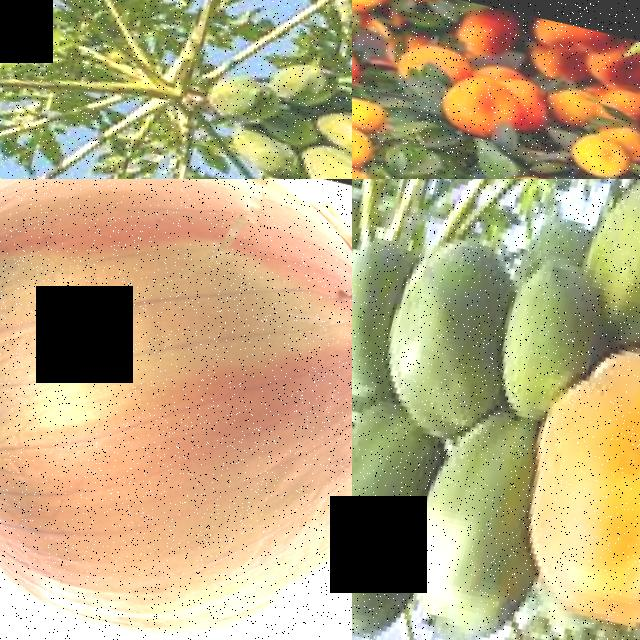onion: (0, 179, 352, 640)
orange: (432, 68, 530, 138), (565, 128, 634, 179), (352, 120, 374, 166), (491, 168, 564, 179)
pawpaw: (395, 408, 551, 640), (520, 340, 640, 634), (371, 218, 533, 421), (352, 415, 443, 640), (493, 247, 604, 406), (584, 179, 640, 310), (200, 66, 282, 125), (264, 54, 344, 107), (227, 127, 307, 178), (314, 111, 352, 173), (255, 169, 334, 179)
